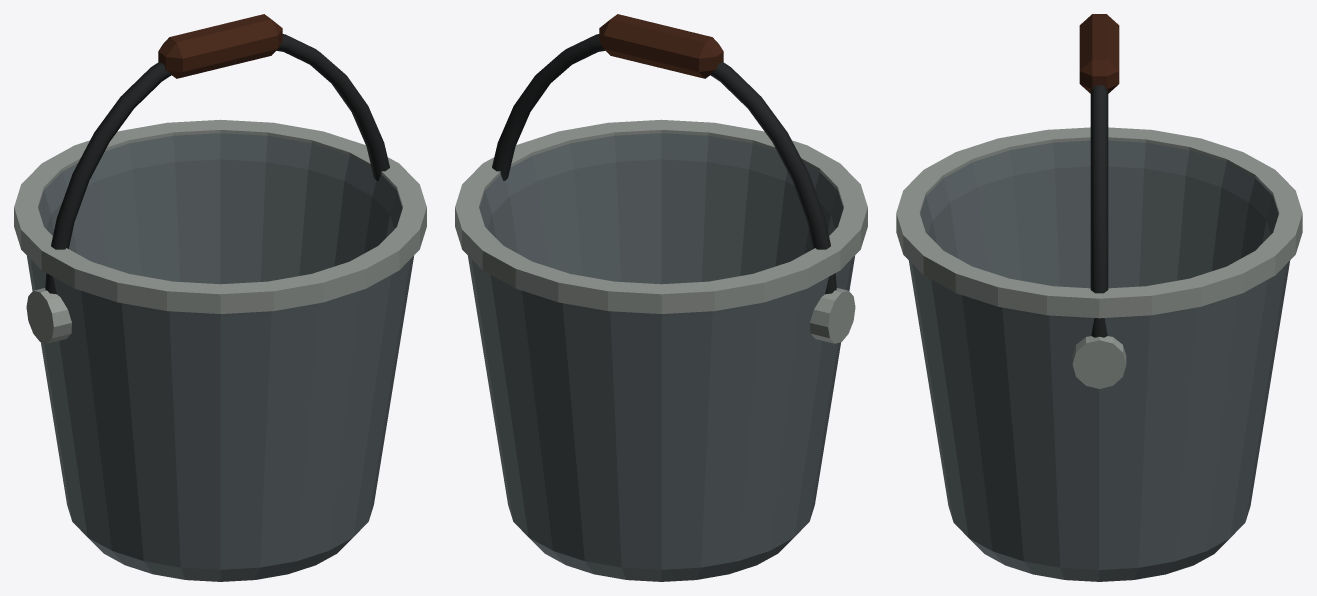
Rendered from CellarBucket.glb.
3 views of the same model, side by side, from view 1: azimuth 30°, elevation 25°; view 2: azimuth 150°, elevation 25°; view 3: azimuth 270°, elevation 25° (orthographic).
Visible parts, largest first — view 1: HollowBucket, RolledBucketRim, BucketHandle, BucketGrip, HandleHinge; view 2: HollowBucket, RolledBucketRim, BucketHandle, BucketGrip, HandleHinge; view 3: HollowBucket, RolledBucketRim, BucketHandle, BucketGrip, HandleHinge.001.
Boxes of the visible parts, x1,y1,x2,y2 form: HollowBucket: (27,133,413,581); RolledBucketRim: (14,119,426,313); BucketHandle: (45,34,389,294); BucketGrip: (158,14,282,78); HandleHinge: (26,288,71,343); HollowBucket: (468,133,854,581); RolledBucketRim: (455,119,867,313); BucketHandle: (492,34,836,294); BucketGrip: (599,14,723,78); HandleHinge: (810,288,855,343); HollowBucket: (908,140,1290,581); RolledBucketRim: (896,127,1302,318); BucketHandle: (1090,85,1108,337); BucketGrip: (1079,14,1119,93); HandleHinge.001: (1072,336,1126,388).
Bounding box in the file's own units: 1.14 × 1.5 × 1.13.
